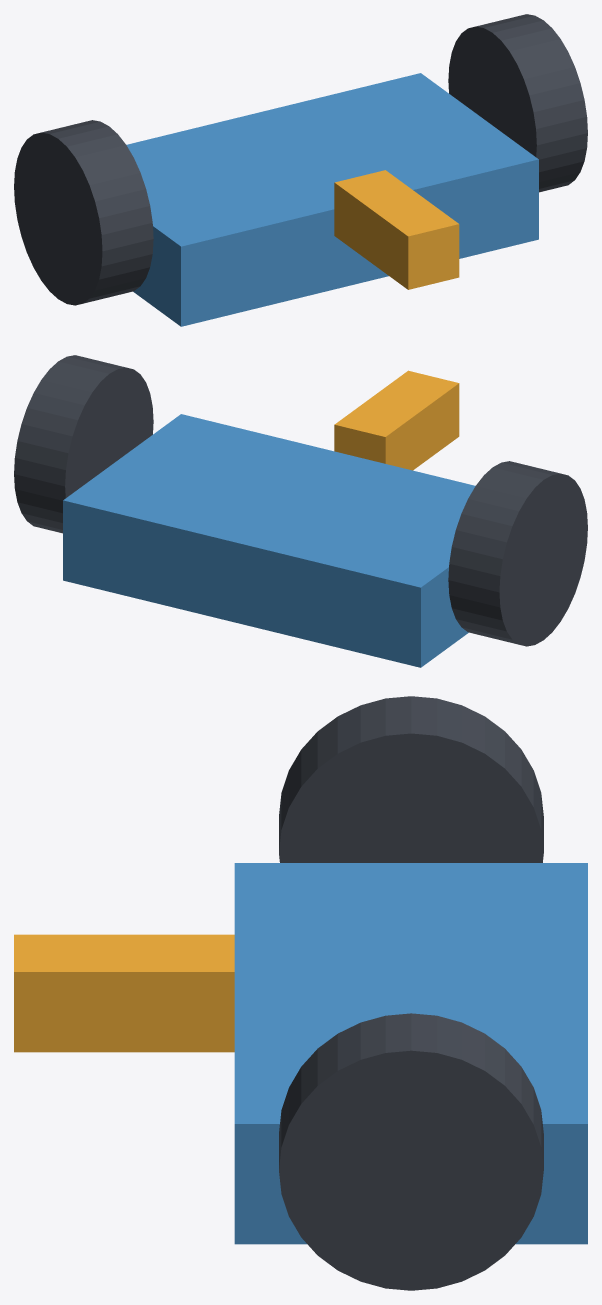
Rendered from wheel-carrier.gltf.
3 renders of one model, top to bottom at view 1: azimuth 30°, elevation 25°; view 2: azimuth 150°, elevation 25°; view 3: azimuth 270°, elevation 25°, orthographic. The views are drawn at different scales.
Parts seen in each view (by area): view 1: Carrier, Wheel, Wheel.001, Positive Z nose; view 2: Carrier, Wheel, Wheel.001, Positive Z nose; view 3: Carrier, Wheel.001, Wheel, Positive Z nose.
Part boxes in pixels (box(x1,y1,x2,y2)): Carrier: box(126, 73, 538, 326); Wheel: box(14, 120, 153, 305); Wheel.001: box(448, 14, 587, 192); Positive Z nose: box(334, 170, 459, 289); Carrier: box(63, 414, 475, 667); Wheel: box(448, 461, 587, 646); Wheel.001: box(14, 355, 153, 533); Positive Z nose: box(334, 370, 459, 470); Carrier: box(234, 863, 587, 1244); Wheel.001: box(279, 1013, 543, 1290); Wheel: box(279, 696, 543, 862); Positive Z nose: box(14, 934, 234, 1052).
Bounding box in the file's own units: 1.9 × 0.6 × 1.3.
